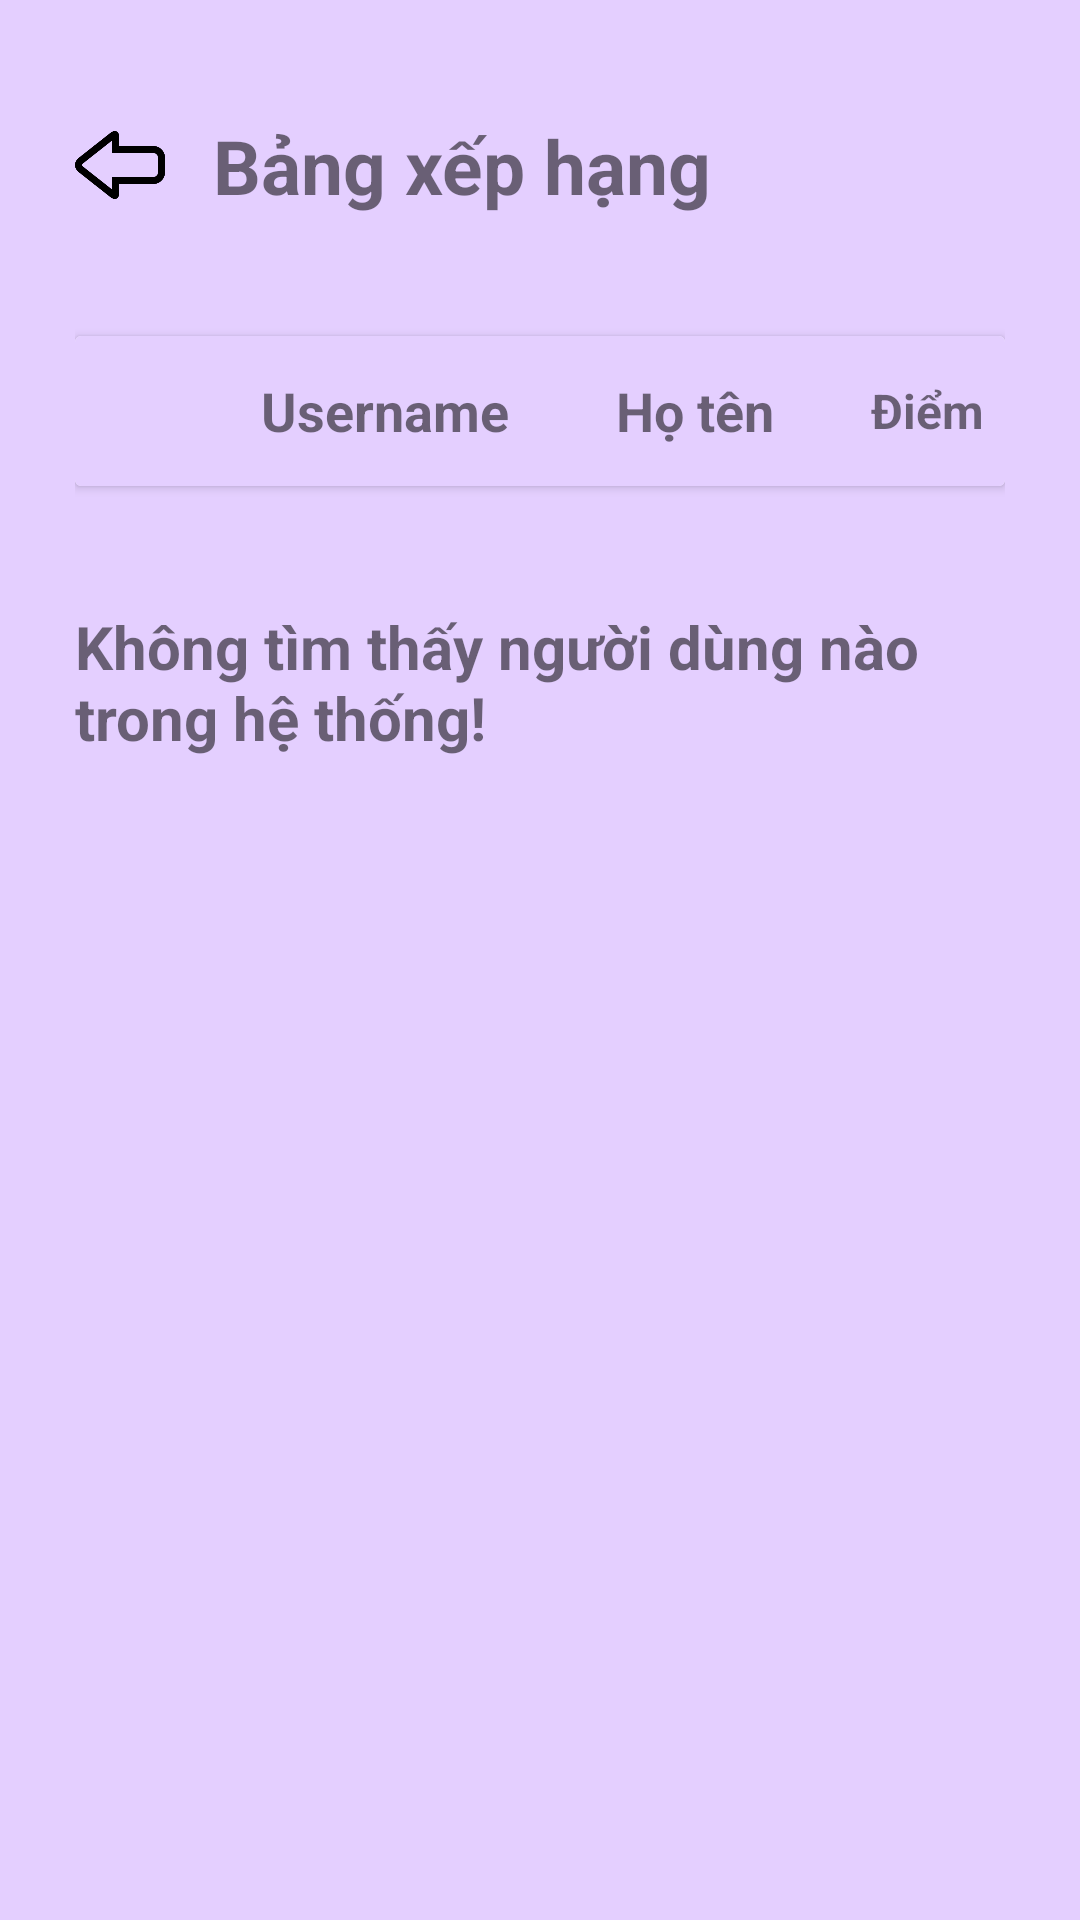

Where icons sit on this 1080x1920 app screen, as region(x1, y1, x2, y2):
backicon: region(75, 131, 165, 199)
